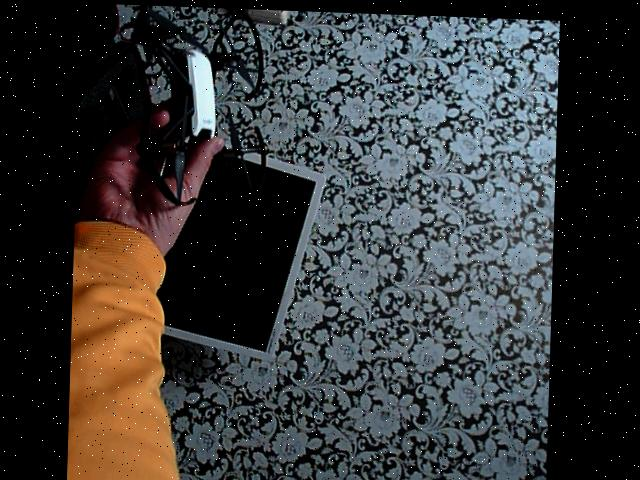drone: (110, 3, 281, 197)
